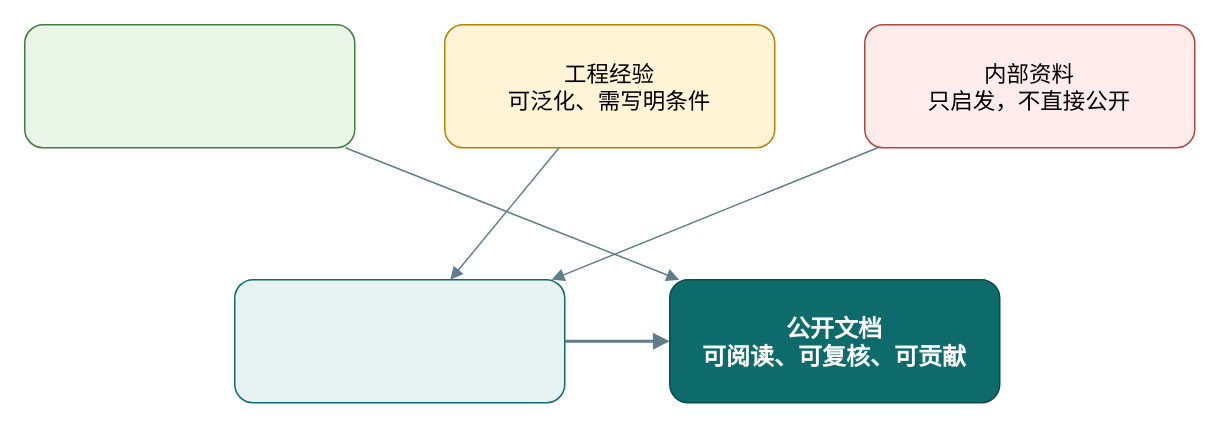
This 1220x428 diagram has some shape labels left out. The box of each missing label's shape, as (x1, y1, x2, y2) in pixels:
公开资料 教材 / 官方文档 / 论文: (23, 23, 355, 148)
改写与脱敏 去除原文、参数、未授权图: (233, 278, 565, 403)
